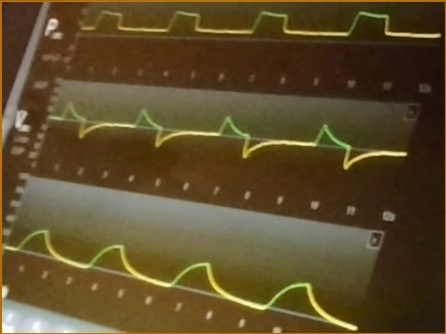Normal Flow: (52, 95, 405, 171)
Normal Volume: (8, 224, 363, 330)
